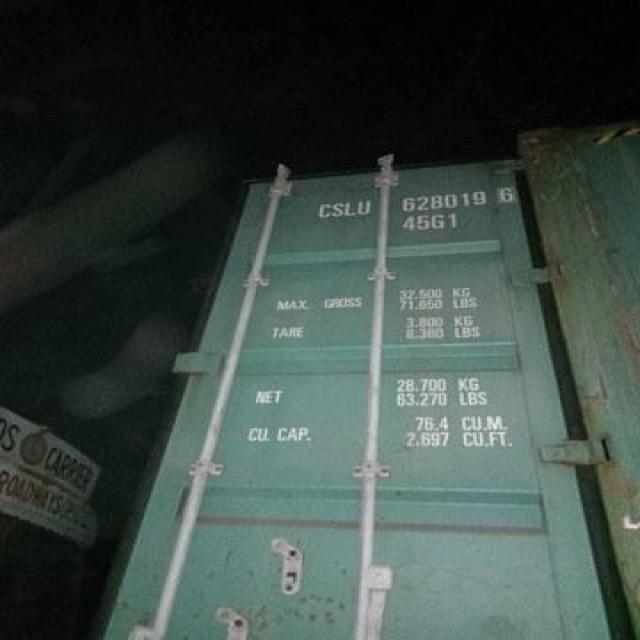container_number_h: (294, 180, 533, 248)
